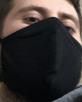with_mask: (1, 1, 82, 102)
